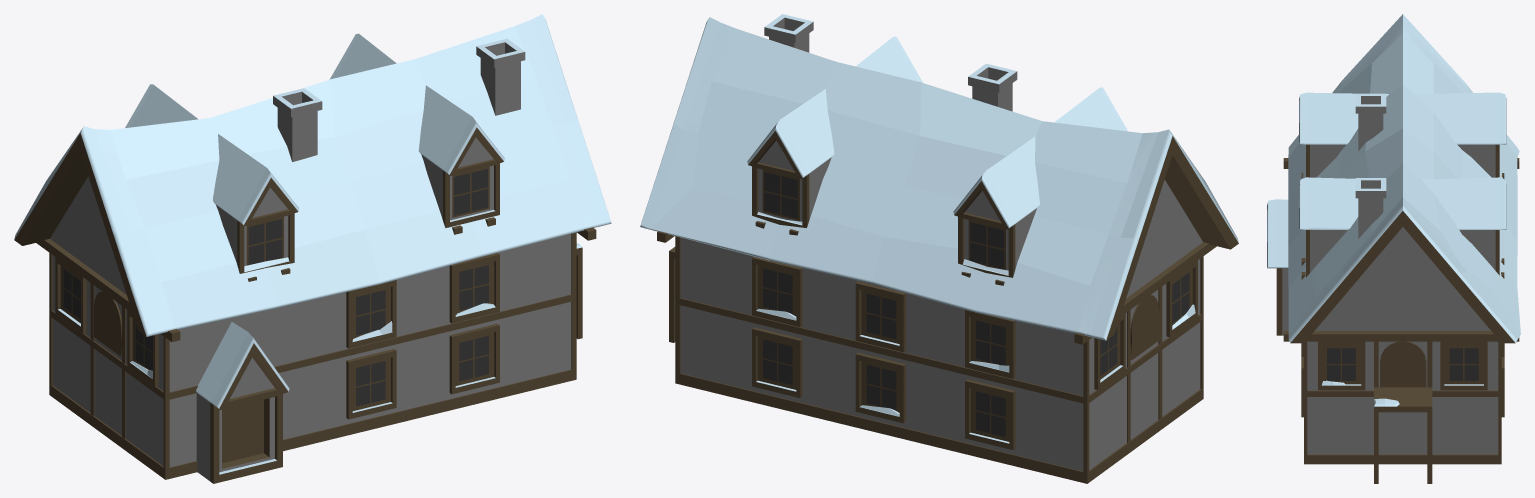
File: model_polytope_snow_house01.fbx
3 renders of one model, left to right at view 1: azimuth 30°, elevation 25°; view 2: azimuth 150°, elevation 25°; view 3: azimuth 270°, elevation 25°, orthographic. The views are drawn at different scales.
Visible parts, largest first — view 1: model_polytope_snow_house01; view 2: model_polytope_snow_house01; view 3: model_polytope_snow_house01.
Part boxes in pixels (<box>): model_polytope_snow_house01: <box>14,14,611,483</box>; model_polytope_snow_house01: <box>640,14,1238,483</box>; model_polytope_snow_house01: <box>1267,14,1520,483</box>.
Size of the model in its own units: 1760 by 1100 by 937.
Materials: 1 (1 with a texture image).
